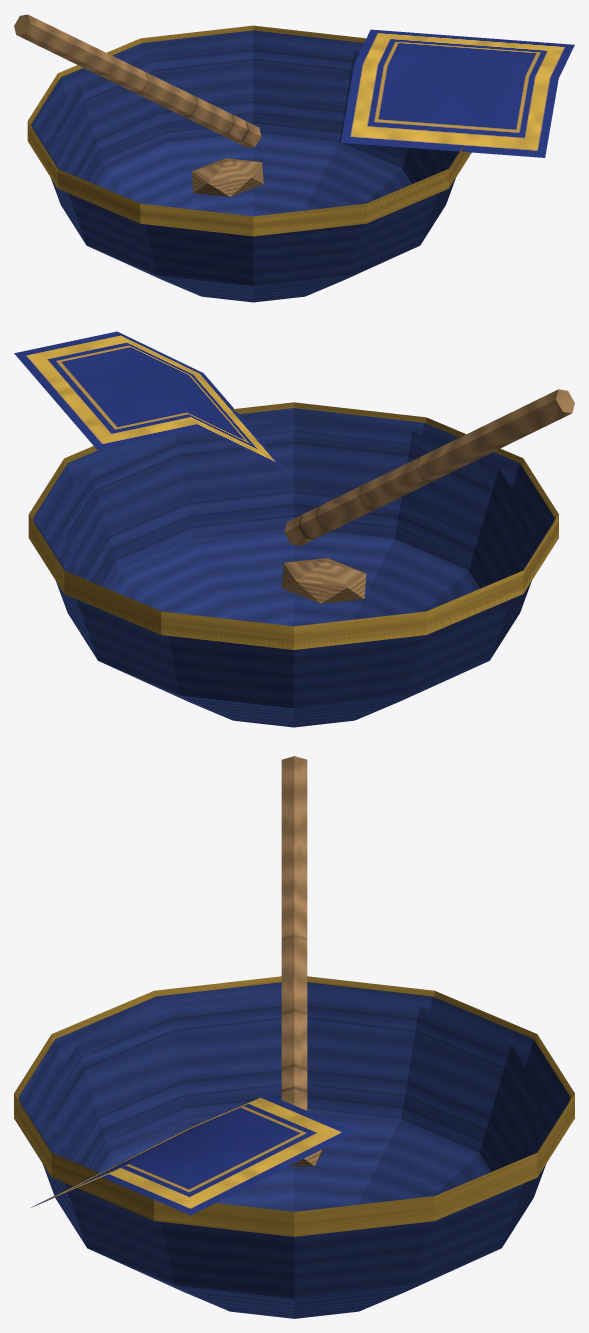
Rendered from prop_kom_blue.glb.
3 renders of one model, top to bottom at view 1: azimuth 30°, elevation 25°; view 2: azimuth 150°, elevation 25°; view 3: azimuth 270°, elevation 25°, orthographic. The views are drawn at different scales.
Parts seen in each view (by area): view 1: prop_kom_blue; view 2: prop_kom_blue; view 3: prop_kom_blue.
Part boxes in pixels (x1,y1,x2,y2): prop_kom_blue: (14, 14, 574, 302); prop_kom_blue: (14, 331, 574, 727); prop_kom_blue: (14, 756, 574, 1318).
Size of the model in its own units: 0.4029 by 0.2227 by 0.3047.
1 material, 1 textured.
